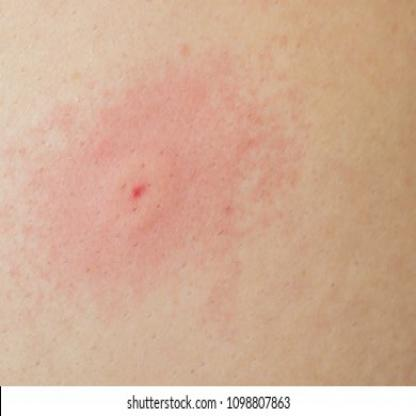Wasp: (99, 141, 178, 238)
